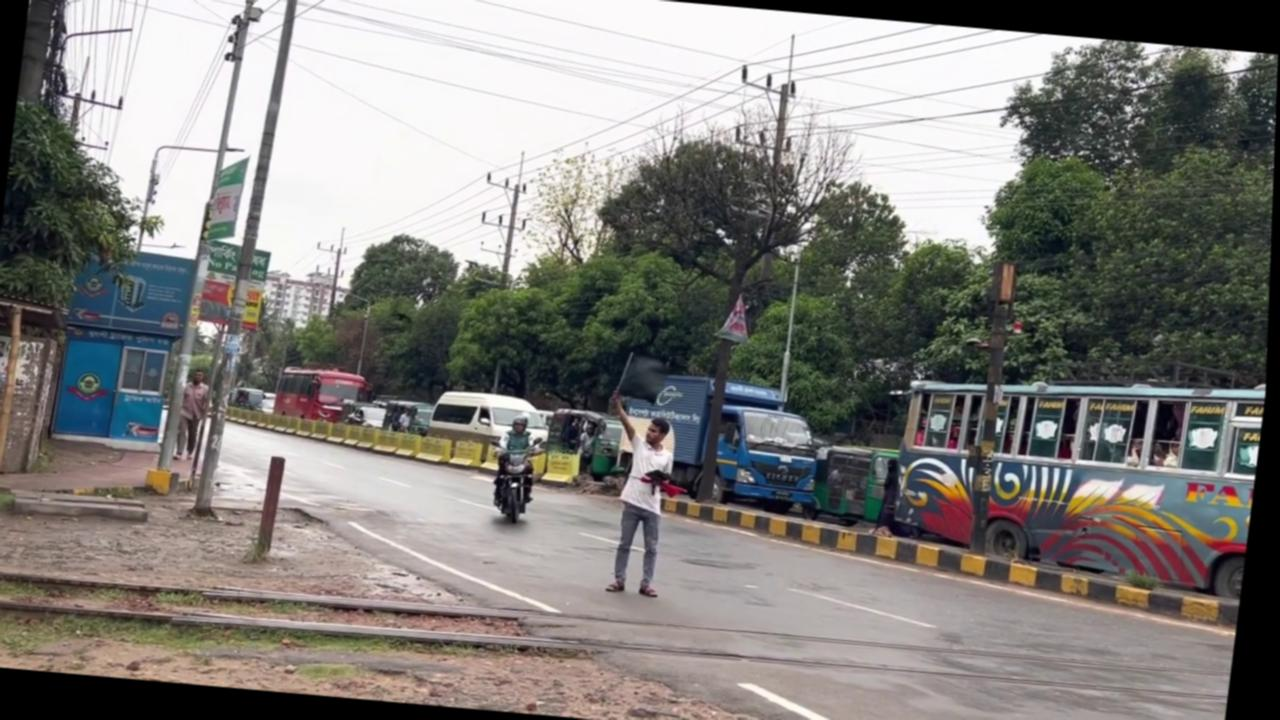Curb: (483, 434, 549, 526)
Fence: (591, 390, 686, 598), (175, 368, 214, 462)
Garbage: (192, 0, 301, 520), (962, 260, 1024, 554), (0, 306, 28, 498)
Motorcycle: (0, 556, 1237, 719)
Railroad-crossing: (564, 78, 872, 511)
Rickshaw: (880, 354, 1269, 599), (603, 351, 837, 518), (546, 406, 640, 483), (274, 362, 379, 426)
